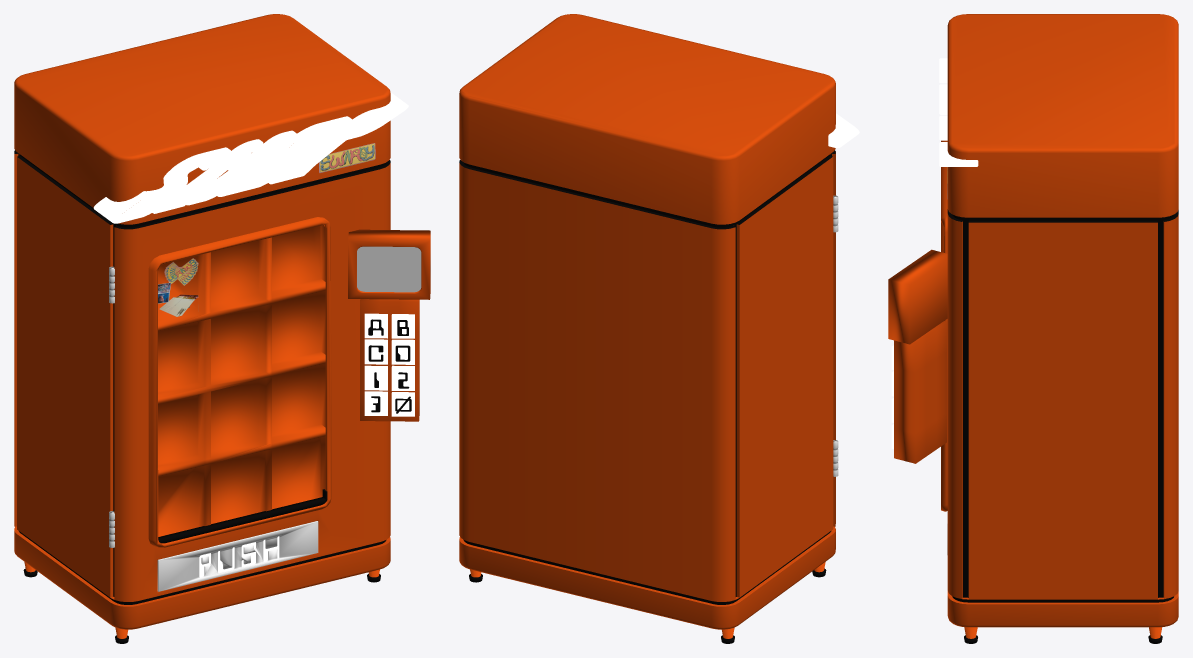
Rendered from vending_machine_3.glb.
The picture shows the model from 3 angles, left to right: view 1: azimuth 30°, elevation 25°; view 2: azimuth 150°, elevation 25°; view 3: azimuth 270°, elevation 25°; orthographic projection.
Parts seen in each view (by area): view 1: Chassis, shop.sign, push.door, Screen.Chassis, SCREEN, Keypad.Chassis, ARM, A1, swardy, push.door.001; view 2: Chassis, shop.sign; view 3: Chassis, Keypad.Chassis, Screen.Chassis, shop.sign, feet.
Part boxes in pixels (box(x1,y1,x2,y2)): Chassis: box(14, 14, 390, 629); shop.sign: box(93, 92, 408, 223); push.door: box(157, 521, 318, 591); Screen.Chassis: box(348, 229, 430, 299); SCREEN: box(357, 246, 421, 292); Keypad.Chassis: box(360, 299, 419, 421); ARM: box(158, 489, 327, 543); A1: box(158, 258, 198, 316); swardy: box(319, 143, 375, 172); push.door.001: box(199, 536, 279, 577); Chassis: box(459, 14, 835, 629); shop.sign: box(828, 113, 859, 147); Chassis: box(941, 14, 1178, 627); Keypad.Chassis: box(894, 321, 946, 463); Screen.Chassis: box(888, 249, 947, 344); shop.sign: box(939, 58, 978, 166); feet: box(964, 627, 1162, 643).
Size of the model in its own units: 2.72 by 4.21 by 2.23.
9 materials, 2 textured.
